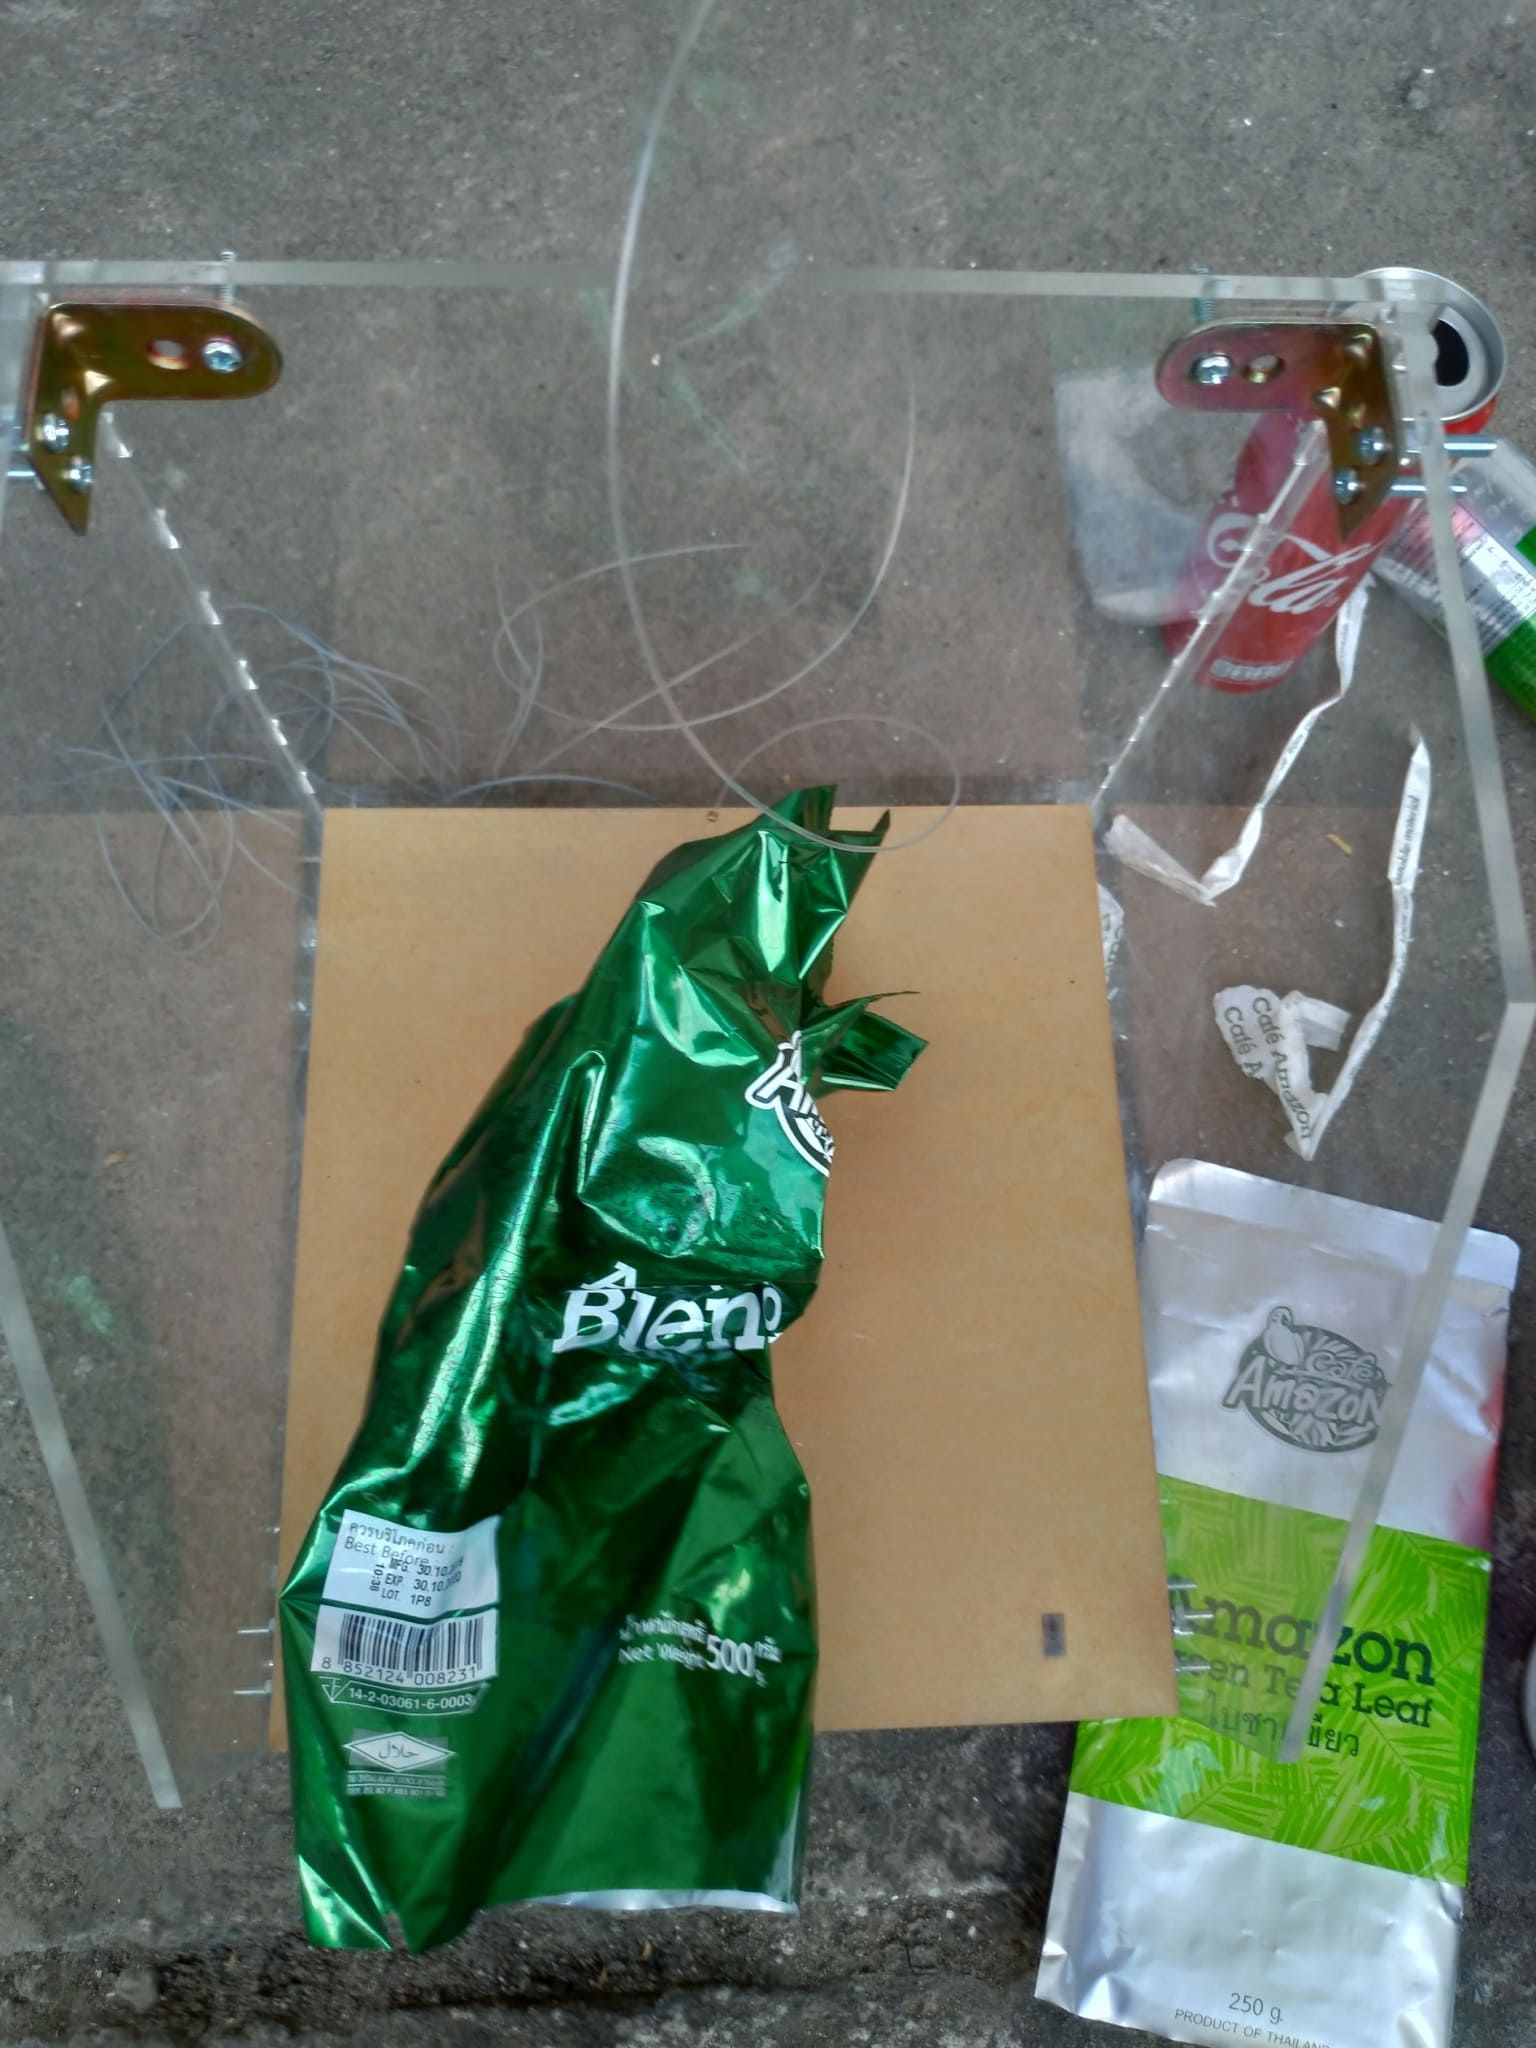AlCan: (1171, 269, 1510, 695), (1394, 442, 1536, 684)
Others: (279, 798, 933, 1908), (1041, 1148, 1513, 2048), (1207, 739, 1438, 1158), (1104, 581, 1371, 901)
